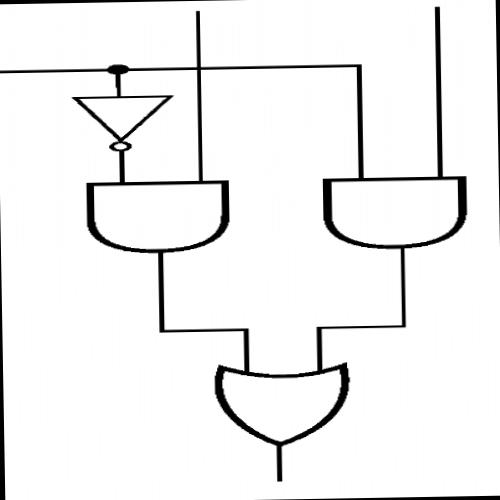and: (76, 176, 241, 260), (315, 170, 478, 254)
not: (64, 90, 181, 154)
or: (205, 356, 359, 452)
